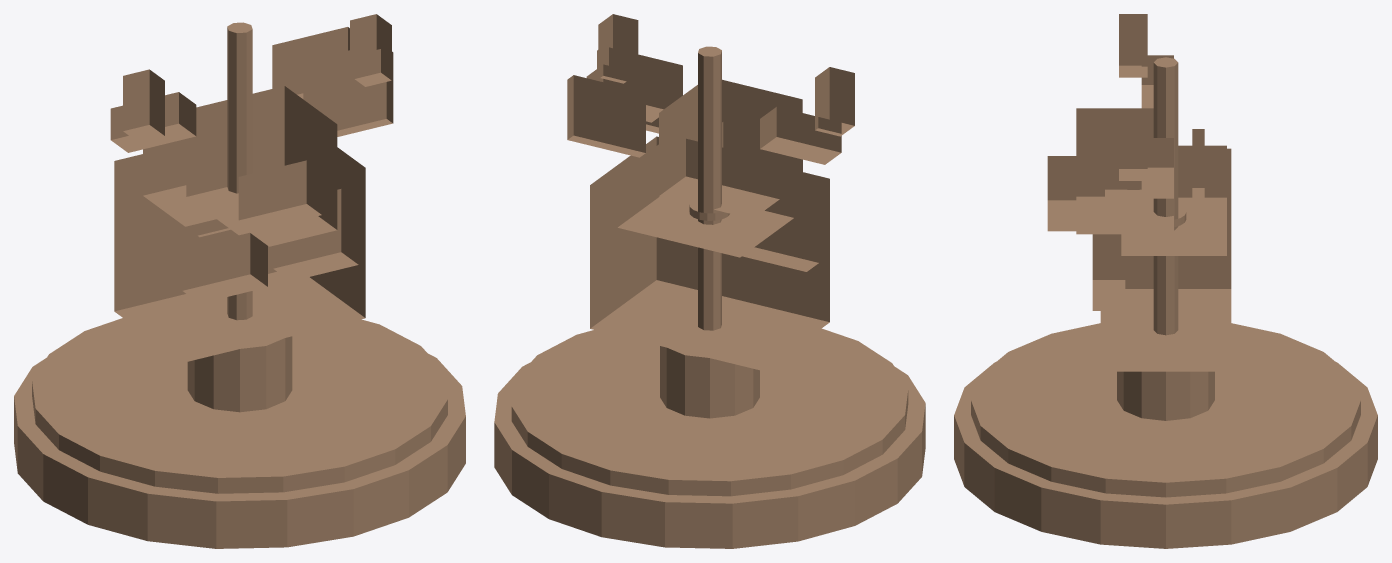
The model's file is monster_minotaur_pawn.glb.
3 renders of one model, left to right at view 1: azimuth 30°, elevation 25°; view 2: azimuth 150°, elevation 25°; view 3: azimuth 270°, elevation 25°, orthographic. The views are drawn at different scales.
Parts seen in each view (by area): view 1: MinotaurPawn_Node; view 2: MinotaurPawn_Node; view 3: MinotaurPawn_Node.
Boxes of the visible parts, x1,y1,x2,y2 form: MinotaurPawn_Node: (14,14,465,548); MinotaurPawn_Node: (494,14,925,548); MinotaurPawn_Node: (954,14,1377,548).
Bounding box in the file's own units: 1.04 × 1.08 × 1.04.
